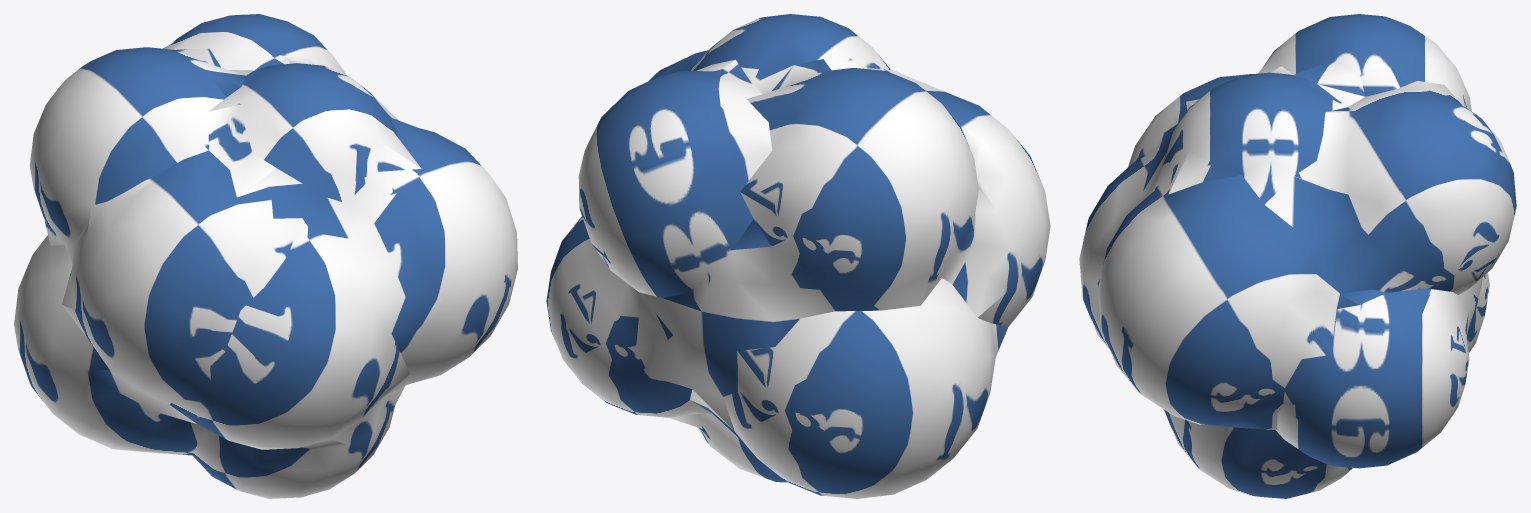
File: Enmu_Meat1.fbx
The picture shows the model from 3 angles, left to right: view 1: azimuth 30°, elevation 25°; view 2: azimuth 150°, elevation 25°; view 3: azimuth 270°, elevation 25°; orthographic projection. The views are drawn at different scales.
Visible parts, largest first — view 1: SM_e_DLC_Plc_P1011_Meat001; view 2: SM_e_DLC_Plc_P1011_Meat001; view 3: SM_e_DLC_Plc_P1011_Meat001.
Part boxes in pixels (left/top/right/bottom): SM_e_DLC_Plc_P1011_Meat001: left=14, top=14, right=517, bottom=498; SM_e_DLC_Plc_P1011_Meat001: left=546, top=14, right=1050, bottom=498; SM_e_DLC_Plc_P1011_Meat001: left=1079, top=14, right=1516, bottom=498.
Bounding box in the file's own units: 128 × 128 × 122.
